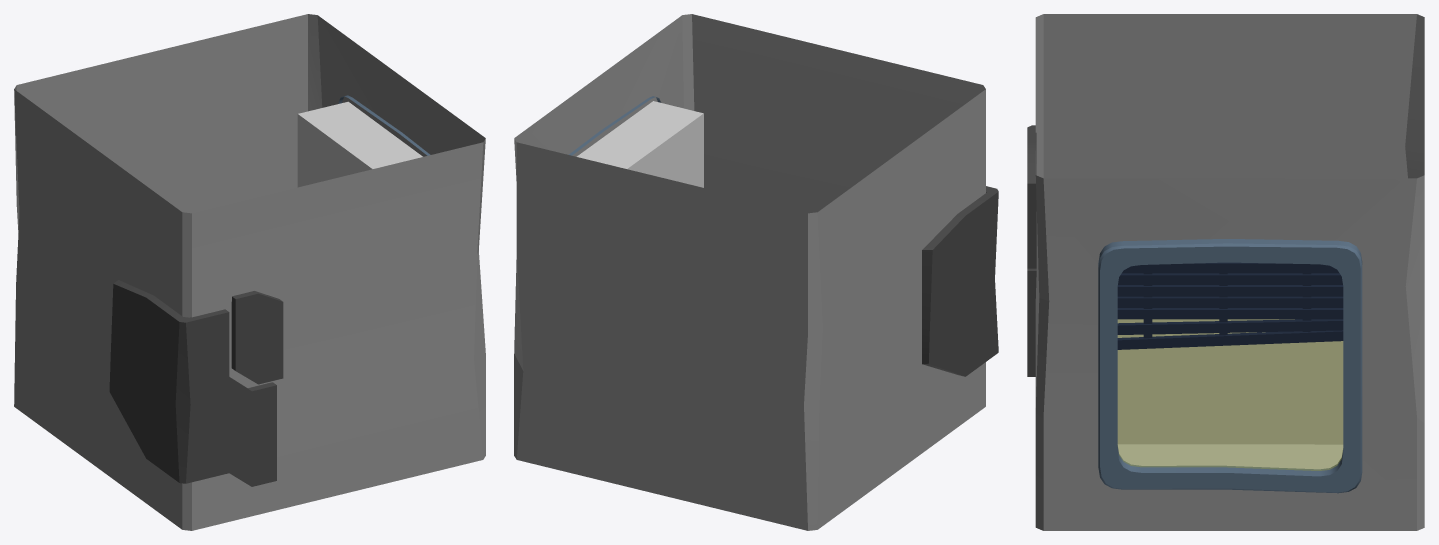
Rendered from Blockout_Building_Small_01.FBX.
3 renders of one model, left to right at view 1: azimuth 30°, elevation 25°; view 2: azimuth 150°, elevation 25°; view 3: azimuth 270°, elevation 25°, orthographic. The views are drawn at different scales.
Visible parts, largest first — view 1: Blockout_Building_Small_01; view 2: Blockout_Building_Small_01; view 3: Blockout_Building_Small_01.
Boxes of the visible parts, x1,y1,x2,y2 form: Blockout_Building_Small_01: (14,14,485,530); Blockout_Building_Small_01: (514,14,998,530); Blockout_Building_Small_01: (1027,14,1424,530).
Size of the model in its own units: 806 by 762 by 779.
